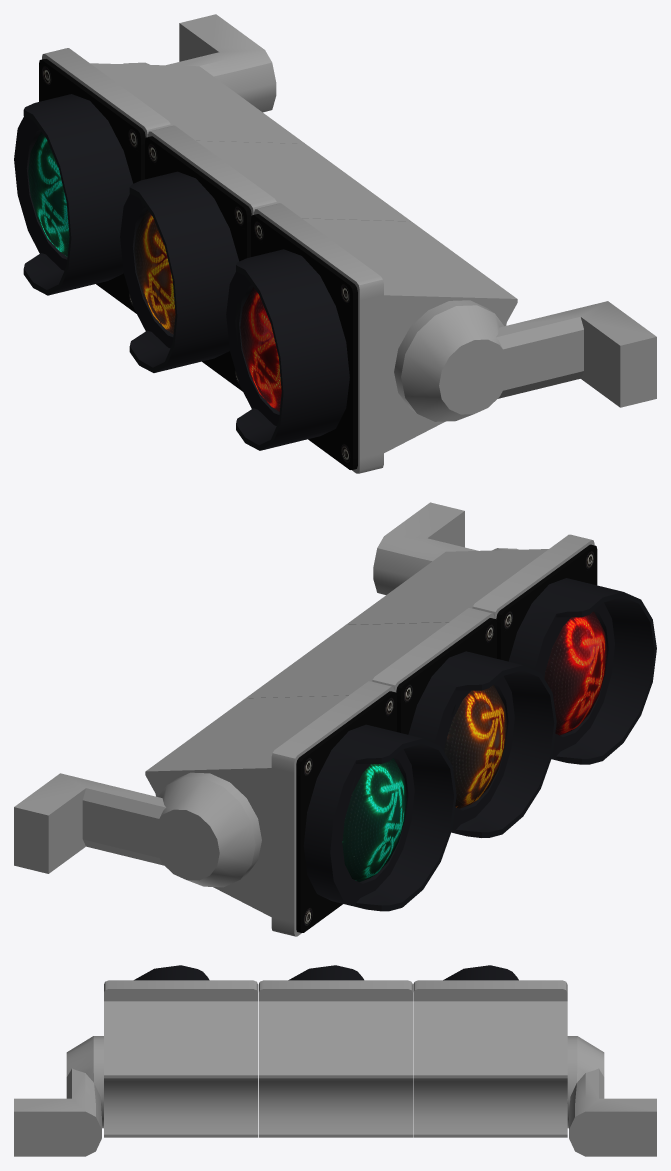
File: Fahrradampel_rot_gelb_gruen_Mast.obj
3 views of the same model, one above another, from view 1: azimuth 30°, elevation 25°; view 2: azimuth 150°, elevation 25°; view 3: azimuth 270°, elevation 25° (orthographic). The views are drawn at different scales.
Visible parts, largest first — view 1: Cube.003_Cube.002, Cube.006, BezierCurve.002_BezierCurve.005, BezierCurve.001_BezierCurve.004, BezierCurve.003_BezierCurve.006, Cube.001_Cube.002, Cube.004_Cube.002, Cube.005_Cube.006; view 2: Cube.004_Cube.002, BezierCurve.003_BezierCurve.006, Cube.005_Cube.006, BezierCurve.002_BezierCurve.005, BezierCurve.001_BezierCurve.004, Cube.003_Cube.002, Cube.001_Cube.002, Cube.006; view 3: Cube.001_Cube.002, Cube.004_Cube.002, Cube.003_Cube.002, Cube.006, Cube.005_Cube.006, BezierCurve.002_BezierCurve.005, BezierCurve.001_BezierCurve.004, BezierCurve.003_BezierCurve.006.
Part boxes in pixels (x1,y1,x2,y2): Cube.003_Cube.002: (251,203,517,473); Cube.006: (394,300,656,421); BezierCurve.002_BezierCurve.005: (226,249,349,450); BezierCurve.001_BezierCurve.004: (120,171,239,372); BezierCurve.003_BezierCurve.006: (14,94,133,295); Cube.001_Cube.002: (145,125,411,391); Cube.004_Cube.002: (39,48,304,313); Cube.005_Cube.006: (123,14,276,112); Cube.004_Cube.002: (145,681,396,936); BezierCurve.003_BezierCurve.006: (303,724,456,911); Cube.005_Cube.006: (14,772,261,887); BezierCurve.002_BezierCurve.005: (508,578,656,764); BezierCurve.001_BezierCurve.004: (408,651,556,837); Cube.003_Cube.002: (346,534,597,661); Cube.001_Cube.002: (246,608,496,734); Cube.006: (373,502,518,594); Cube.001_Cube.002: (258,980,412,1137); Cube.004_Cube.002: (413,980,567,1137); Cube.003_Cube.002: (104,980,257,1137); Cube.006: (14,1036,103,1156); Cube.005_Cube.006: (567,1036,656,1156); BezierCurve.002_BezierCurve.005: (134,965,209,980); BezierCurve.001_BezierCurve.004: (288,965,363,980); BezierCurve.003_BezierCurve.006: (443,965,518,980).
Bounding box in the file's own units: 0.2512 × 0.15 × 0.6251.
